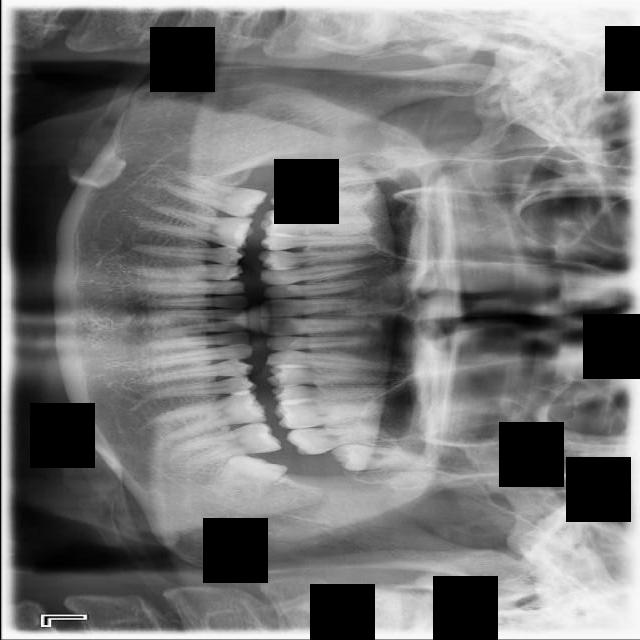3M ESPE Implant: (290, 160, 405, 188)
73: (30, 614, 36, 622)
BioHorizons Implant: (285, 421, 404, 457)
BioLife Implant: (328, 442, 435, 477)
Biomet 3i Implant: (203, 434, 289, 523)
Blue Sky Bio Implant: (167, 417, 284, 469)
Caries: (267, 183, 391, 211)
Implant: (156, 169, 268, 223)
